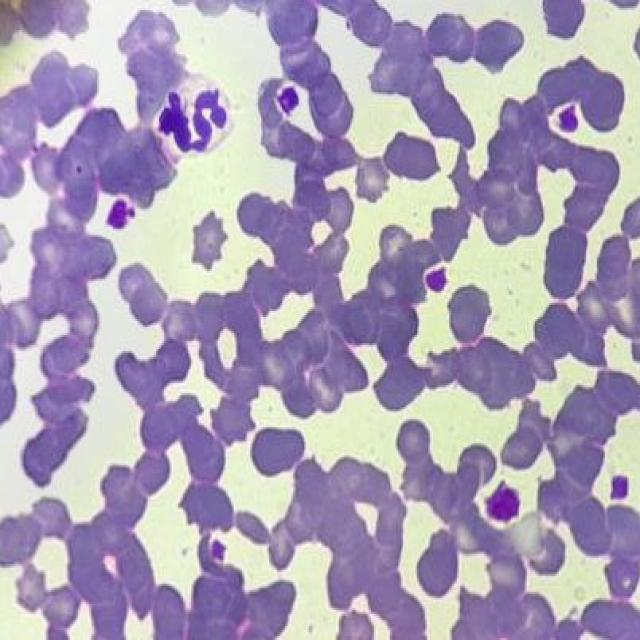Neutrofilo: (146, 71, 235, 162)
